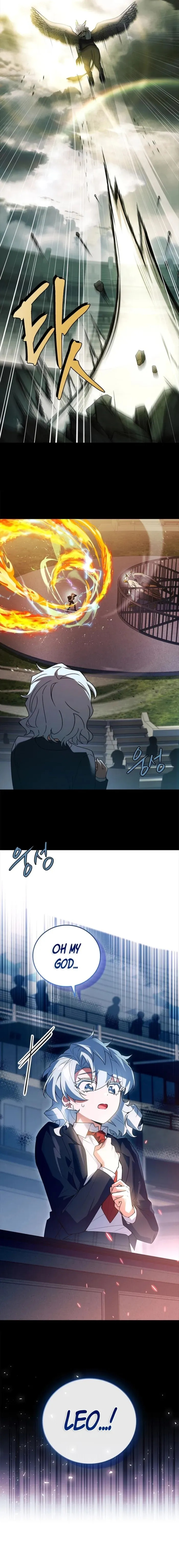bubbles: (40, 1372, 138, 1470), (29, 923, 111, 998)
